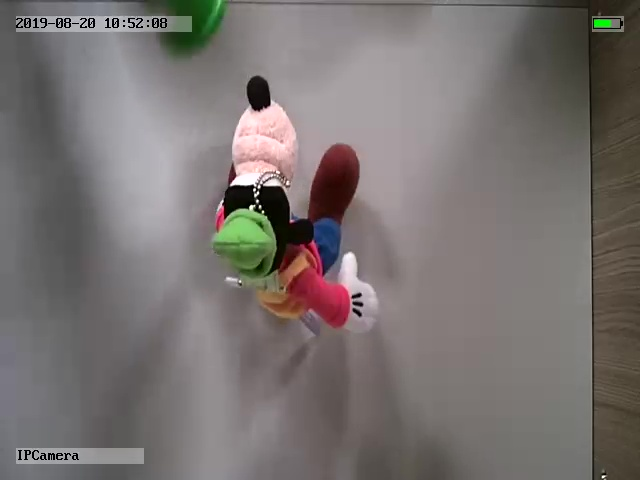goofy: (203, 75, 380, 337)
